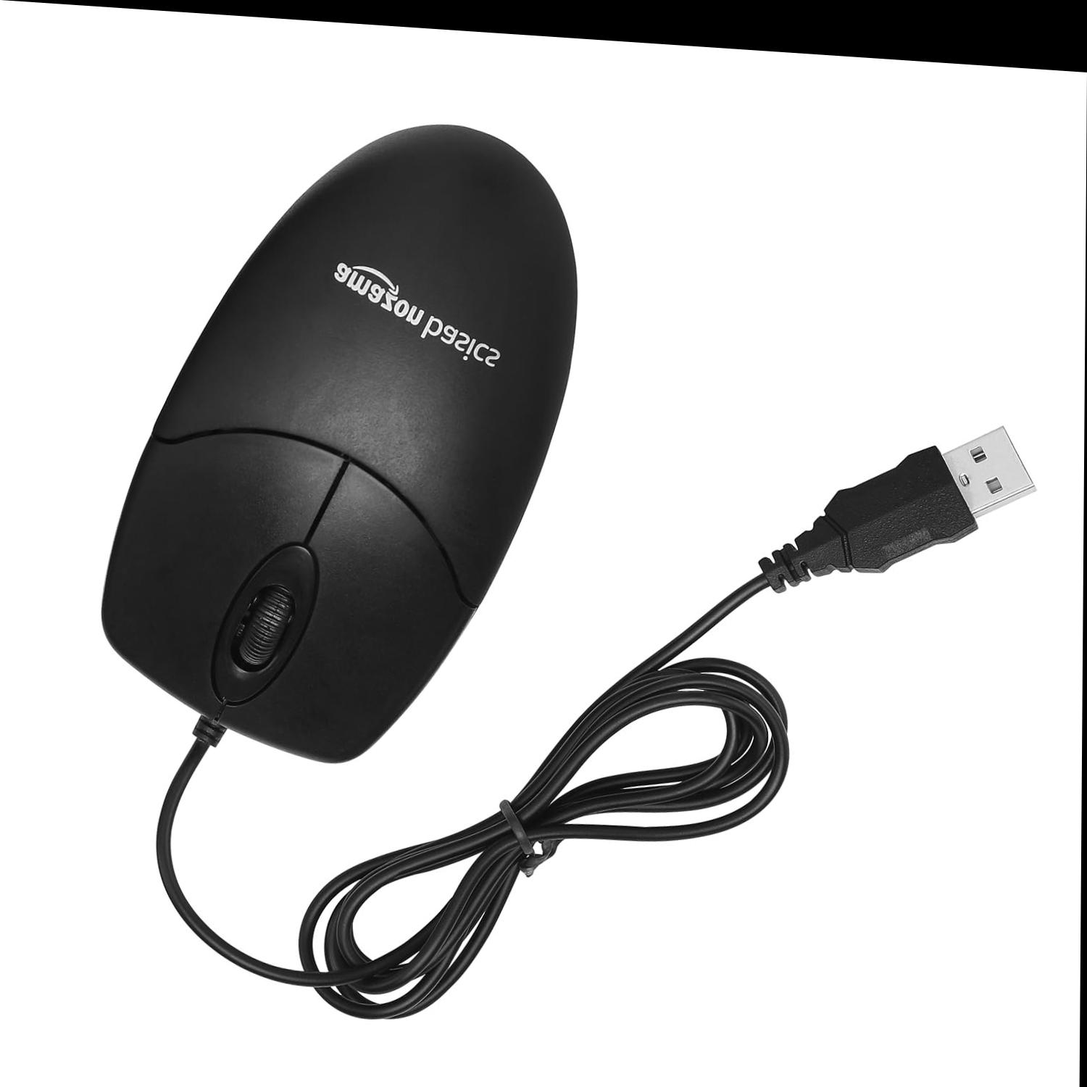mouse: (33, 86, 670, 801)
